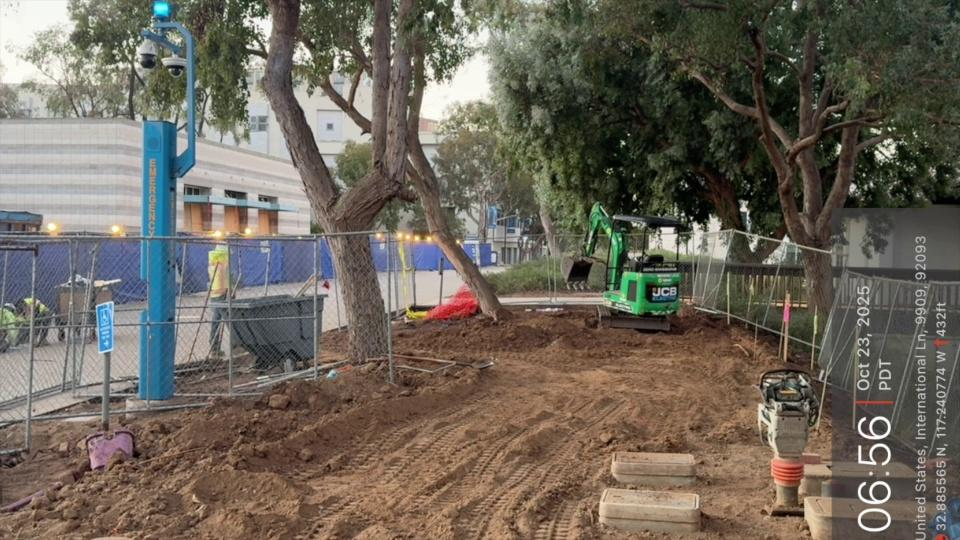Exacavator: (562, 199, 689, 332)
